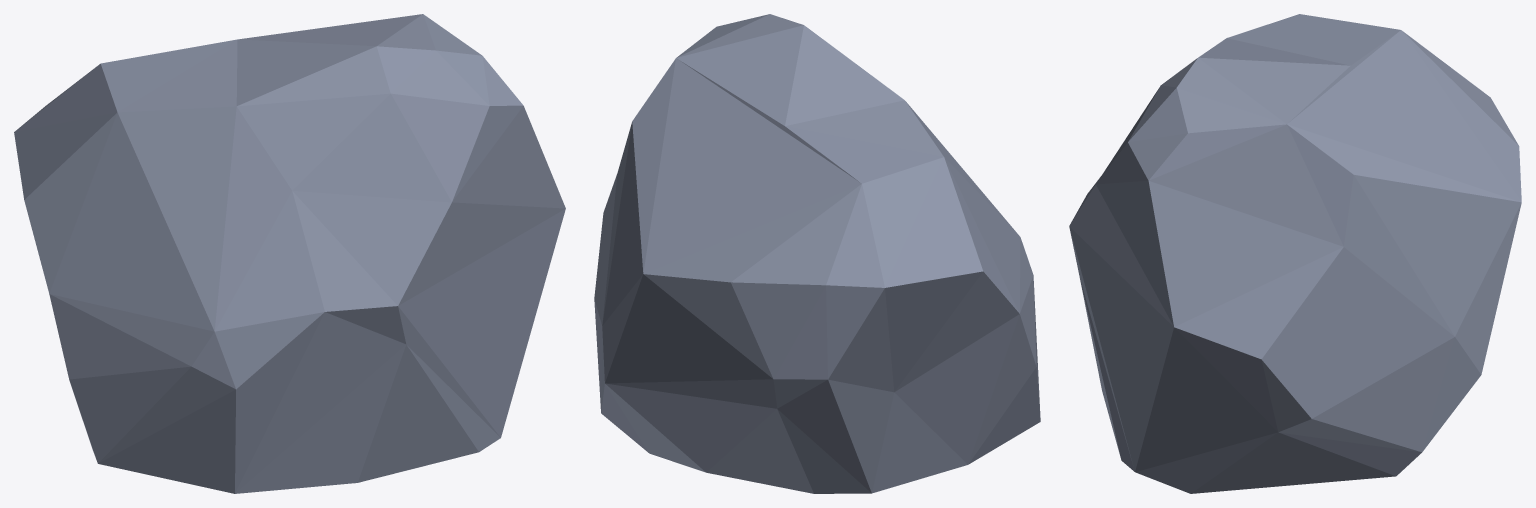
File: Rock1-1.fbx
The picture shows the model from 3 angles, left to right: view 1: azimuth 30°, elevation 25°; view 2: azimuth 150°, elevation 25°; view 3: azimuth 270°, elevation 25°; orthographic projection. The views are drawn at different scales.
Visible parts, largest first — view 1: Rock1-1; view 2: Rock1-1; view 3: Rock1-1.
Part boxes in pixels (x1=…): Rock1-1: x1=14, y1=14, x2=565, y2=493; Rock1-1: x1=594, y1=14, x2=1040, y2=493; Rock1-1: x1=1069, y1=14, x2=1521, y2=493.
Size of the model in its own units: 111 by 92.82 by 97.47.
